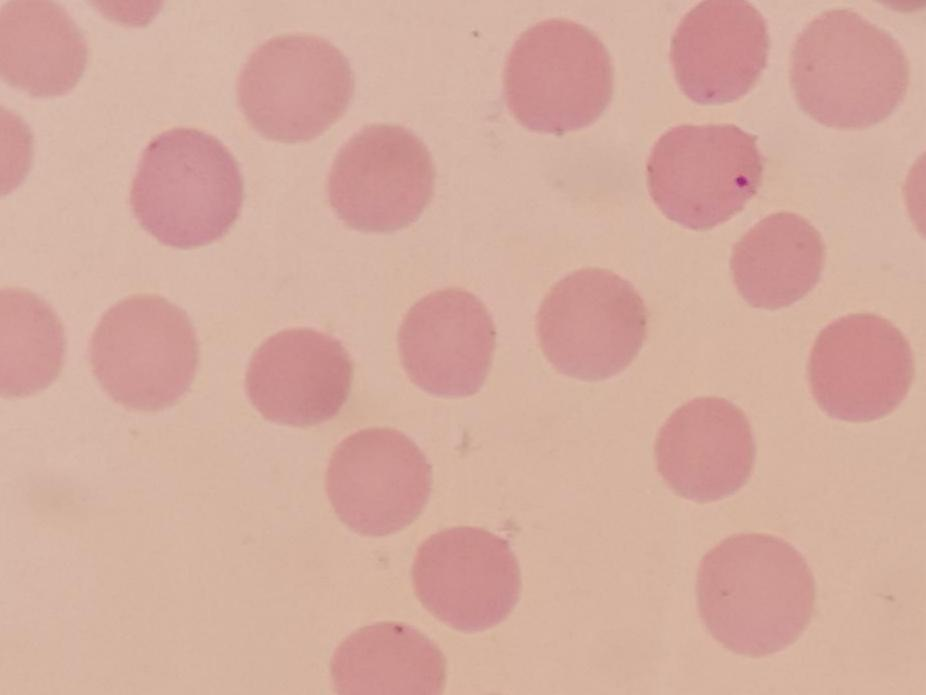Uninfected: (787, 6, 909, 131), (698, 532, 814, 655), (643, 122, 766, 234), (92, 292, 203, 413), (130, 127, 239, 250), (498, 19, 613, 133), (237, 34, 352, 145), (533, 267, 647, 378), (410, 529, 522, 634), (330, 122, 434, 235), (807, 309, 911, 420), (243, 326, 352, 428), (400, 284, 497, 396), (330, 429, 431, 535), (670, 1, 768, 109), (653, 396, 753, 500), (730, 207, 823, 310), (0, 0, 92, 99), (330, 624, 441, 695), (0, 289, 68, 403)
